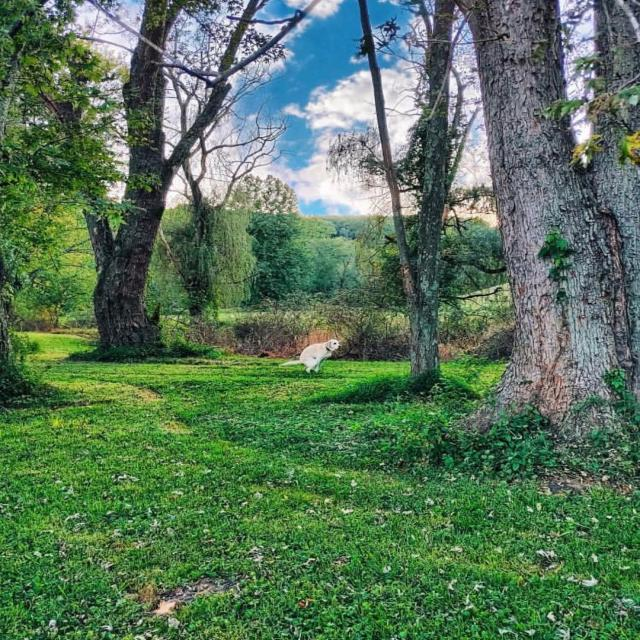squatting: (274, 335, 348, 377)
